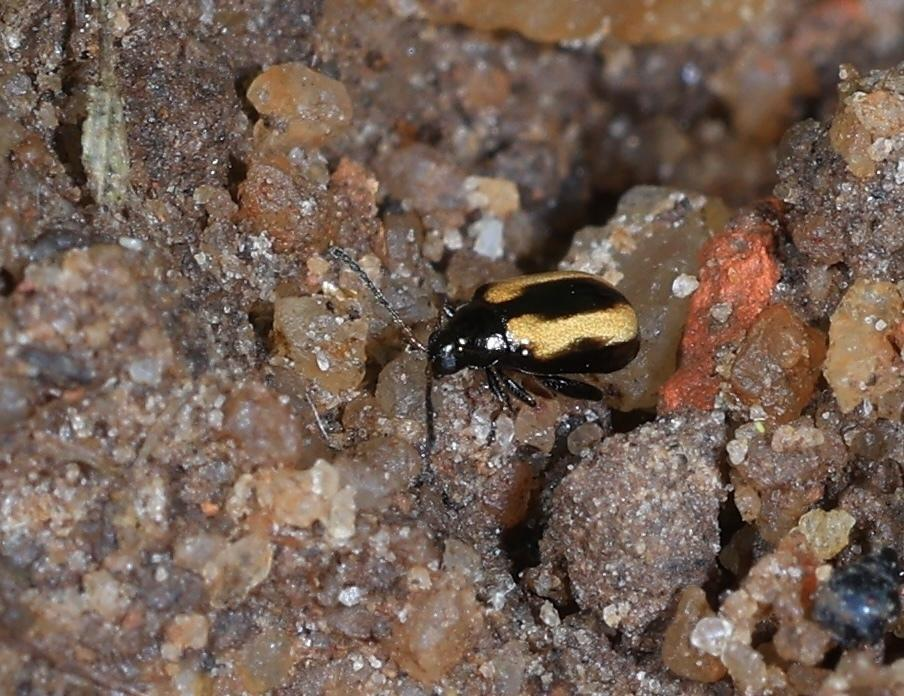flea_beetle: (301, 183, 681, 447)
